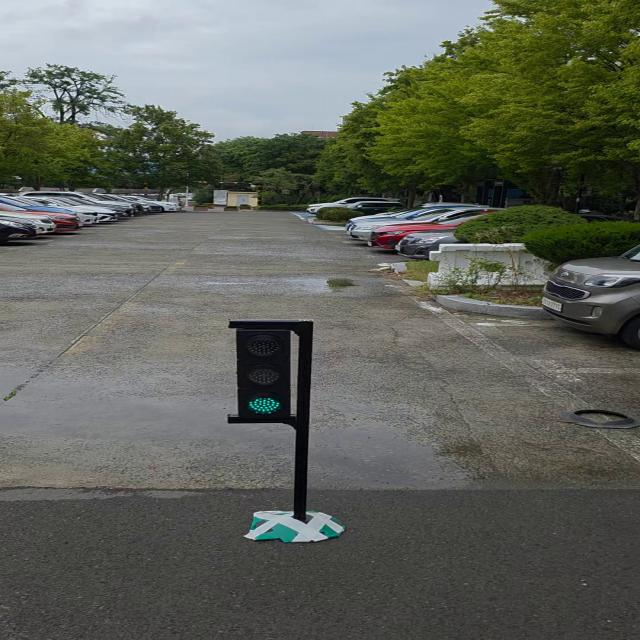green: (240, 322, 310, 422)
